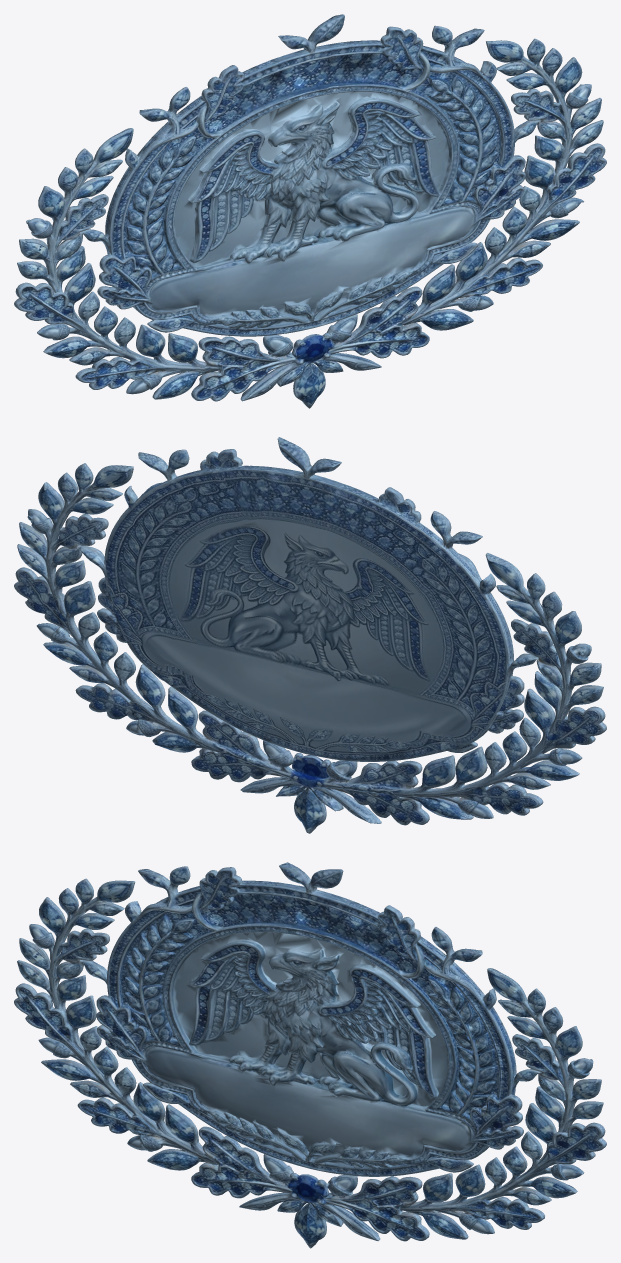
File: rank-pro.glb
The picture shows the model from 3 angles, top to bottom: view 1: azimuth 30°, elevation 25°; view 2: azimuth 150°, elevation 25°; view 3: azimuth 330°, elevation 25°; orthographic projection.
Size of the model in its own units: 1.9 by 1.19 by 0.071.
Materials: 1 (1 with a texture image).
